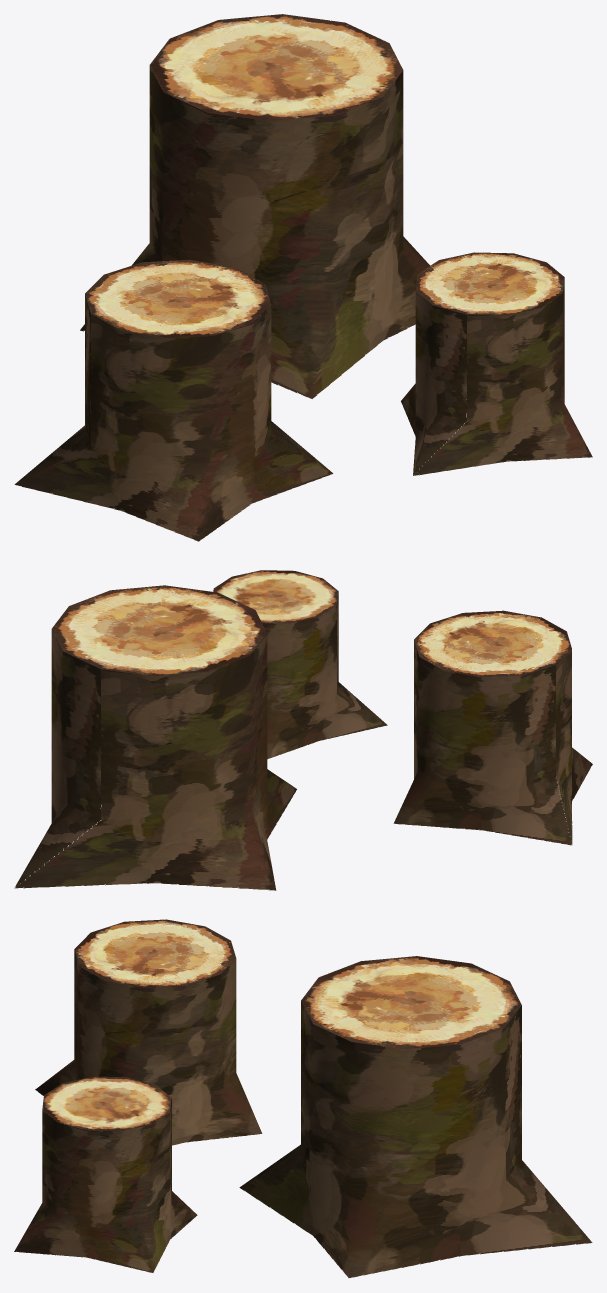
The model's file is CEPPO.FBX.
3 views of the same model, one above another, from view 1: azimuth 30°, elevation 25°; view 2: azimuth 150°, elevation 25°; view 3: azimuth 270°, elevation 25° (orthographic). The views are drawn at different scales.
Parts seen in each view (by area): view 1: Cylinder006; view 2: Cylinder006; view 3: Cylinder006.
Boxes of the visible parts, left/top/right/bottom form: Cylinder006: left=14, top=14, right=592, bottom=541; Cylinder006: left=14, top=570, right=592, bottom=890; Cylinder006: left=14, top=919, right=592, bottom=1277.
Bounding box in the file's own units: 0.8414 × 0.3735 × 0.9244.
Materials: 1 (1 with a texture image).
